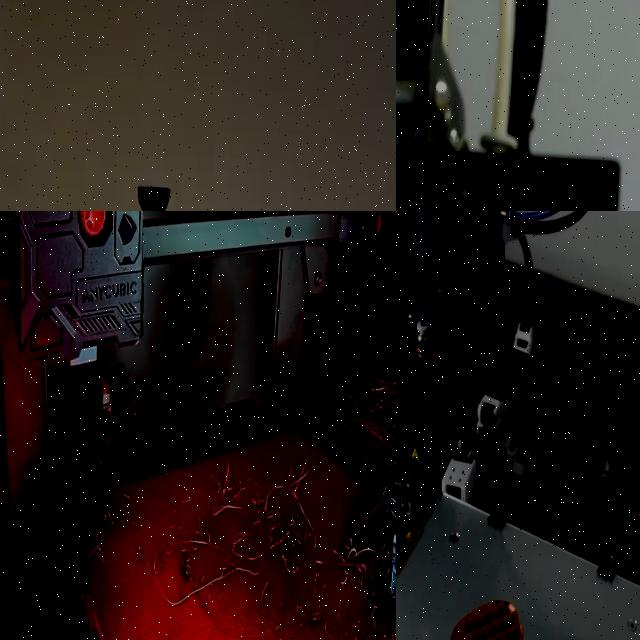spaghetti: (82, 443, 325, 640), (325, 376, 396, 597), (315, 552, 396, 640)
